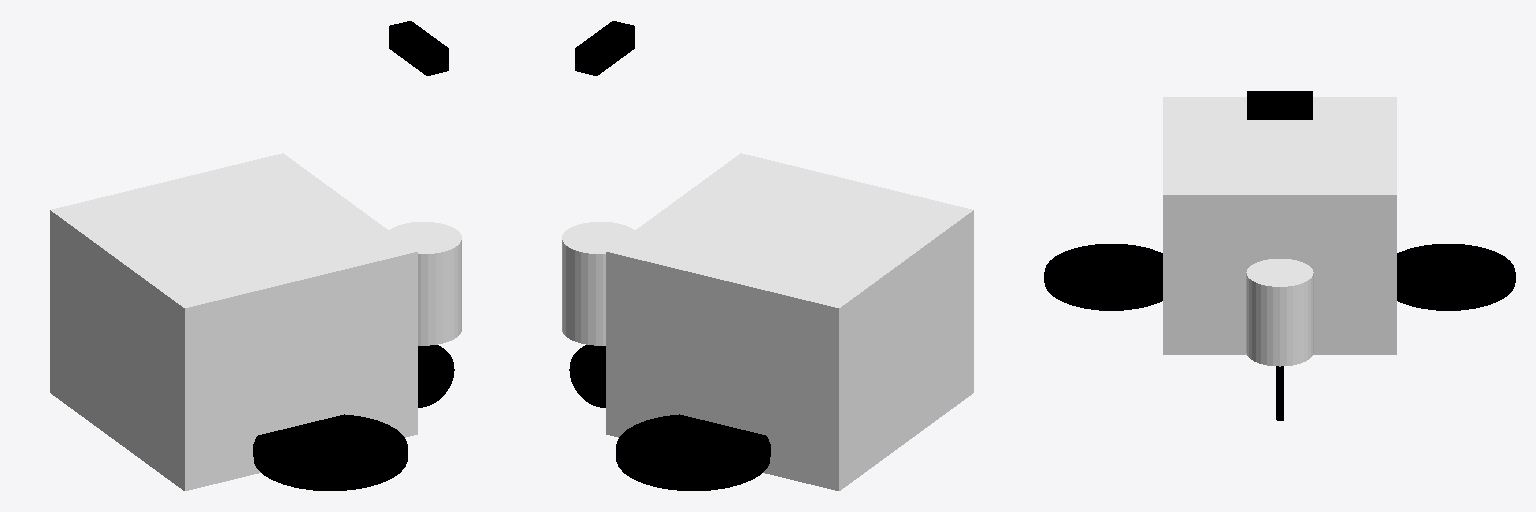
URDF robot description (test_robot):
<robot name="test_robot">

  <!-- Base Link -->
  <link name="base_link">
    <inertial>
      <mass value="1.0"/>
      <origin xyz="0 0 0" rpy="0 0 0"/>
      <inertia ixx="0.1" ixy="0.0" ixz="0.0" iyy="0.1" iyz="0.0" izz="0.1"/>
    </inertial>
    <visual>
      <geometry>
        <box size="0.16 0.16 0.12"/>
      </geometry>
      <origin rpy="0 0 0" xyz="0 0 0.085"/>
      <material name="white">
        <color rgba="1 1 1 1"/>
      </material>
    </visual>
  </link>

  <!-- Left Wheel -->
  <link name="lwheel">
    <inertial>
      <mass value="0.1"/>
      <origin xyz="0 0 0" rpy="0 0 0"/>
      <inertia ixx="0.01" ixy="0.0" ixz="0.0" iyy="0.01" iyz="0.0" izz="0.01"/>
    </inertial>
    <visual>
      <geometry>
        <cylinder length="0.008" radius="0.046"/>
      </geometry>
      <origin rpy="0 0 0" xyz="0 0 0"/>
      <material name="black">
        <color rgba="0 0 0 1"/>
      </material>
    </visual>
  </link>

  <joint name="base_to_lwheel" type="continuous">
    <parent link="base_link"/>
    <child link="lwheel"/>
    <origin xyz="0 0.115 0.046" rpy="0 0 0"/>
    <axis xyz="0 1 0"/>
  </joint>

  <!-- Right Wheel -->
  <link name="rwheel">
    <inertial>
      <mass value="0.1"/>
      <origin xyz="0 0 0" rpy="0 0 0"/>
      <inertia ixx="0.01" ixy="0.0" ixz="0.0" iyy="0.01" iyz="0.0" izz="0.01"/>
    </inertial>
    <visual>
      <geometry>
        <cylinder length="0.008" radius="0.046"/>
      </geometry>
      <origin rpy="0 0 0" xyz="0 0 0"/>
      <material name="black">
        <color rgba="0 0 0 1"/>
      </material>
    </visual>
  </link>

  <joint name="base_to_rwheel" type="continuous">
    <parent link="base_link"/>
    <child link="rwheel"/>
    <origin xyz="0 -0.115 0.046" rpy="0 0 0"/>
    <axis xyz="0 1 0"/>
  </joint>

  <!-- Front Wheel Attachment -->
  <link name="fwheel_attach">
    <inertial>
      <mass value="0.1"/>
      <origin xyz="0 0 0" rpy="0 0 0"/>
      <inertia ixx="0.01" ixy="0.0" ixz="0.0" iyy="0.01" iyz="0.0" izz="0.01"/>
    </inertial>
    <visual>
      <geometry>
        <cylinder length="0.060" radius="0.023"/>
      </geometry>
      <origin rpy="0 0 0" xyz="0.13 0 0.08"/>
      <material name="white">
        <color rgba="1 1 1 1"/>
      </material>
    </visual>
  </link>

  <joint name="base_to_fattach" type="fixed">
    <parent link="base_link"/>
    <child link="fwheel_attach"/>
    <origin xyz="0 0 0" rpy="0 0 0"/>
  </joint>

  <!-- Front Wheel -->
  <link name="fwheel">
    <inertial>
      <mass value="0.1"/>
      <origin xyz="0 0 0" rpy="0 0 0"/>
      <inertia ixx="0.01" ixy="0.0" ixz="0.0" iyy="0.01" iyz="0.0" izz="0.01"/>
    </inertial>
    <visual>
      <geometry>
        <cylinder length="0.005" radius="0.020"/>
      </geometry>
      <origin rpy="1.578 0 0" xyz="0 0 0"/>
      <material name="black">
        <color rgba="0 0 0 1"/>
      </material>
    </visual>
  </link>

  <joint name="base_to_fwheel" type="fixed">
    <parent link="base_link"/>
    <child link="fwheel"/>
    <origin xyz="0.13 0 0.02" rpy="0 0 0"/>
  </joint>

  <!-- Scanner -->
  <link name="scanner">
    <inertial>
      <mass value="0.1"/>
      <origin xyz="0 0 0" rpy="0 0 0"/>
      <inertia ixx="0.01" ixy="0.0" ixz="0.0" iyy="0.01" iyz="0.0" izz="0.01"/>
    </inertial>
    <visual>
      <geometry>
        <box size="0.015 0.045 0.015"/>
      </geometry>
      <origin rpy="0 0 0" xyz="0.022 0 0.015"/>
      <material name="black">
        <color rgba="0 0 0 1"/>
      </material>
    </visual>
  </link>

  <joint name="base_to_scanner" type="fixed">
    <parent link="base_link"/>
    <child link="scanner"/>
    <origin xyz="0.105 0 0.22" rpy="0 0 0"/>
  </joint>

  <!-- Gazebo Plugins -->
  <gazebo>
    <plugin name="gazebo_ros_control" filename="libgazebo_ros_control.so">
      <robotNamespace>/diff_drive_robot</robotNamespace>
    </plugin>
  </gazebo>

  <gazebo>
    <plugin name="diff_drive_controller" filename="libgazebo_ros_diff_drive.so">
      <robotNamespace>/diff_drive_robot</robotNamespace>
      <commandTopic>/cmd_vel</commandTopic>
      <odometryTopic>/odom</odometryTopic>
      <leftJoint>base_to_lwheel</leftJoint>
      <rightJoint>base_to_rwheel</rightJoint>
    </plugin>
  </gazebo>
  
</robot>

--- Render facts (derived) ---
3 views of the same robot in one strip: view 1: azimuth 30°, elevation 25°; view 2: azimuth 150°, elevation 25°; view 3: azimuth 270°, elevation 25° (orthographic).
Model test_robot with 6 links and 5 joints (2 continuous, 3 fixed), rooted at base_link, posed every joint at zero.
Links seen in each view (by area): view 1: base_link, rwheel, fwheel_attach, scanner, fwheel; view 2: base_link, lwheel, fwheel_attach, scanner, fwheel; view 3: base_link, fwheel_attach, lwheel, rwheel, scanner.
Link boxes in pixels (x1,y1,x2,y2): base_link: (50, 153, 417, 490); rwheel: (253, 414, 407, 490); fwheel_attach: (389, 222, 461, 345); scanner: (389, 21, 448, 75); fwheel: (418, 345, 454, 407); base_link: (606, 153, 973, 490); lwheel: (616, 414, 770, 490); fwheel_attach: (562, 222, 634, 345); scanner: (575, 21, 634, 75); fwheel: (569, 345, 605, 407); base_link: (1163, 97, 1396, 354); fwheel_attach: (1246, 259, 1313, 366); lwheel: (1397, 244, 1515, 310); rwheel: (1044, 244, 1162, 310); scanner: (1247, 91, 1312, 119).
Size in the robot's own frame: 0.233 by 0.322 by 0.2425 metres.
Geometry: primitives only (box / cylinder / sphere), no mesh files.
